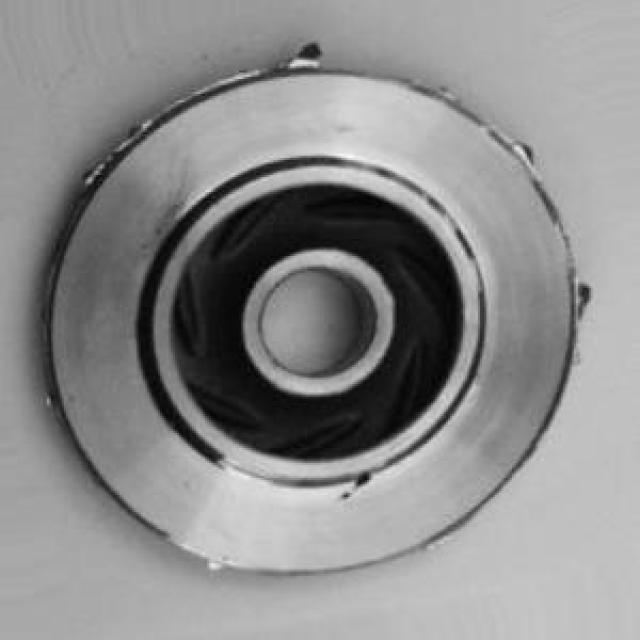Defect: (281, 36, 331, 72)
